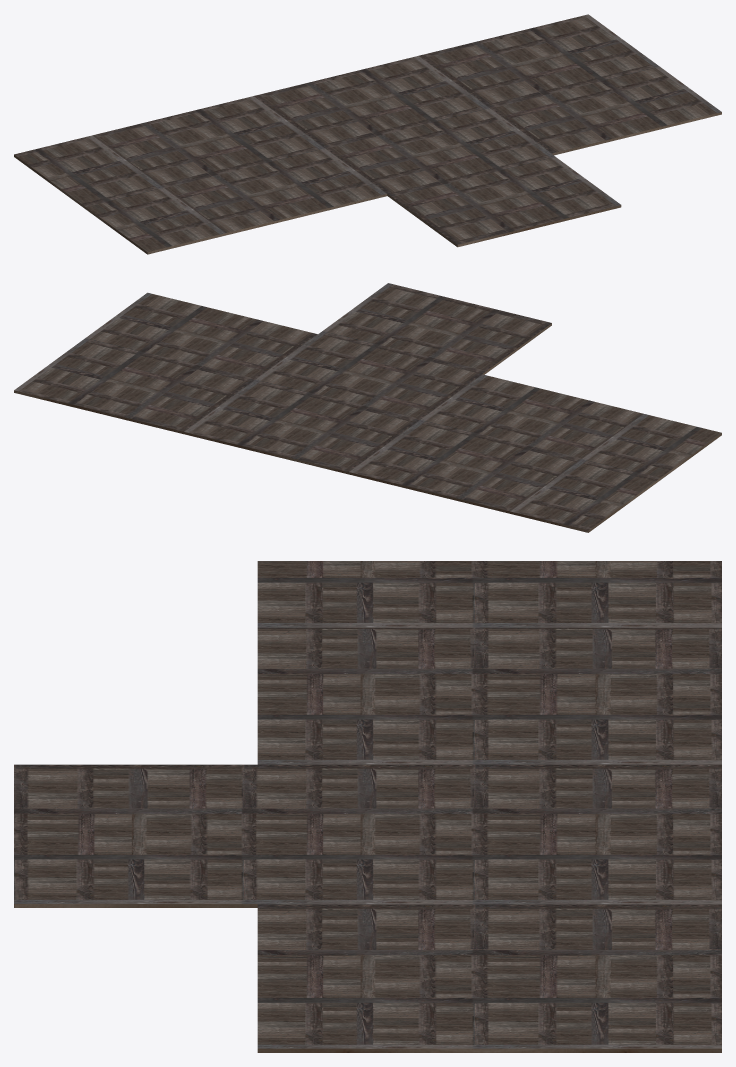
The model's file is SM_Sun_toillet_Floor.fbx.
3 renders of one model, top to bottom at view 1: azimuth 30°, elevation 25°; view 2: azimuth 150°, elevation 25°; view 3: azimuth 270°, elevation 25°, orthographic. The views are drawn at different scales.
Parts seen in each view (by area): view 1: SM_Sun_toillet_Floor; view 2: SM_Sun_toillet_Floor; view 3: SM_Sun_toillet_Floor.
Part boxes in pixels (x1=…): SM_Sun_toillet_Floor: x1=14, y1=14, x2=721, y2=254; SM_Sun_toillet_Floor: x1=14, y1=283, x2=721, y2=532; SM_Sun_toillet_Floor: x1=14, y1=561, x2=721, y2=1052.
Bounding box in the file's own units: 1242 × 5 × 762.
